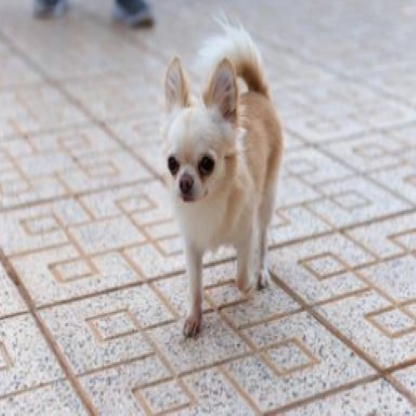chihuahua: (161, 17, 286, 340)
